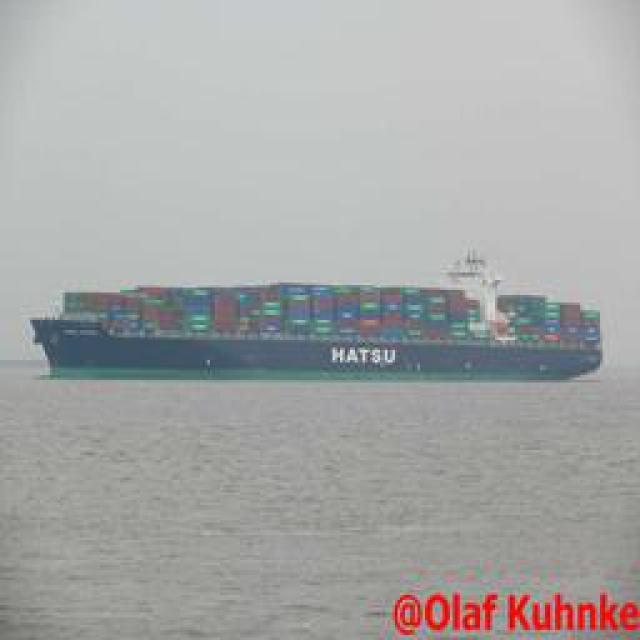Ship: (21, 272, 609, 382)
